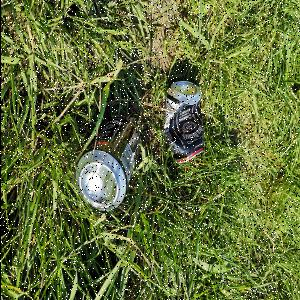Can: (75, 113, 141, 213), (164, 82, 206, 166)
